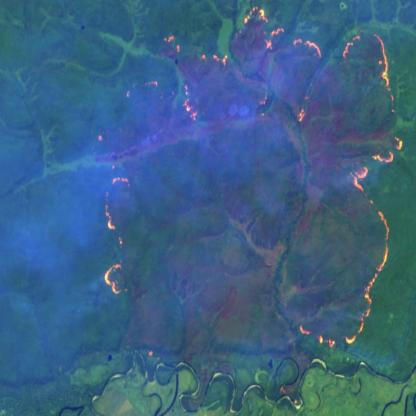fire: (163, 0, 408, 356), (94, 162, 136, 300)
